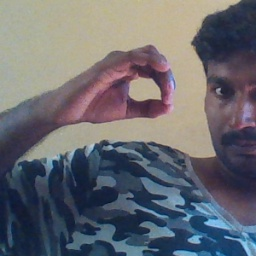O: (52, 43, 180, 130)
